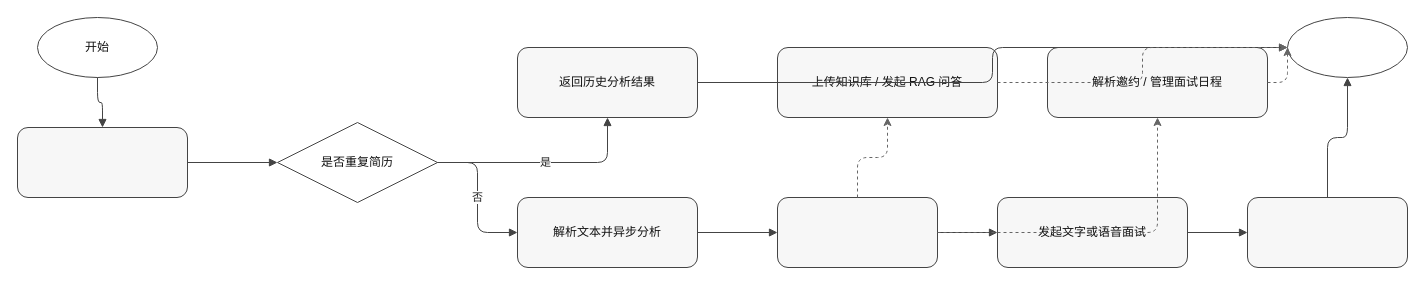
The diagram is 1425 pixels wide and 285 high, and some of its shapes have lost their labels. The box of each missing label's shape, as (x1, y1, x2, y2) in pixels:
上传简历文件: (16, 126, 188, 198)
查看简历详情: (776, 196, 938, 268)
结束: (1286, 16, 1408, 78)
获得评估报告: (1246, 196, 1408, 268)
